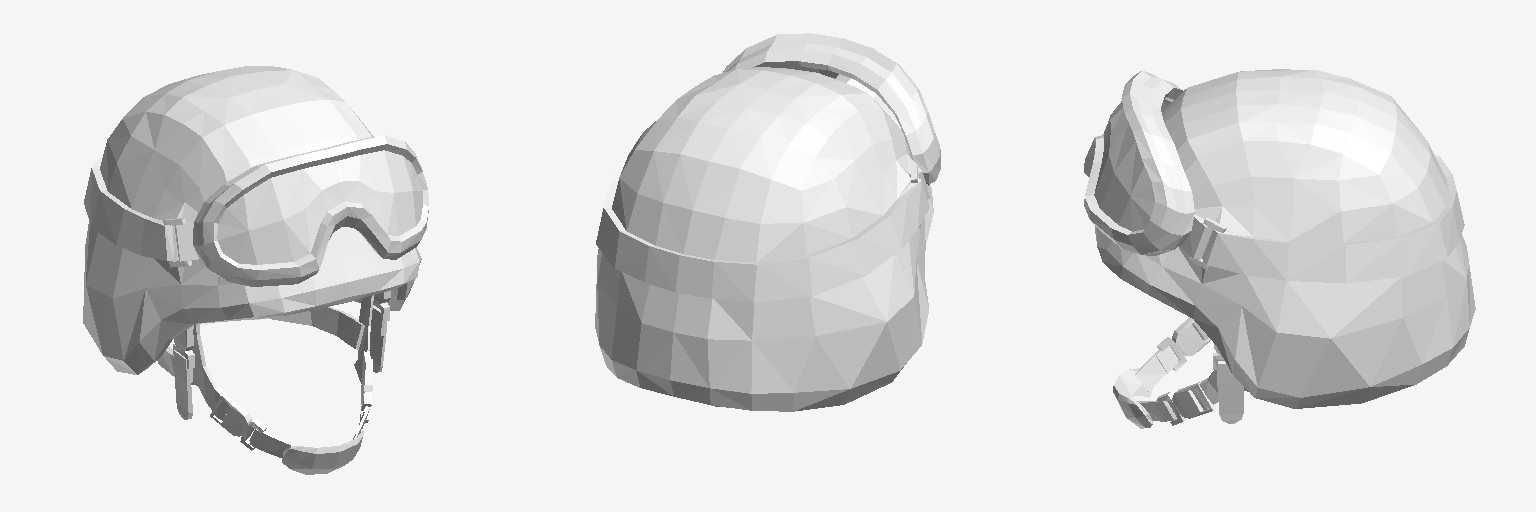
Rendered from PeaceKeeperHelmet.obj.
3 renders of one model, left to right at view 1: azimuth 30°, elevation 25°; view 2: azimuth 150°, elevation 25°; view 3: azimuth 270°, elevation 25°, orthographic.
Parts seen in each view (by area): view 1: Soldier_head_Soldier_head; view 2: Soldier_head_Soldier_head; view 3: Soldier_head_Soldier_head.
Part boxes in pixels (x1,y1,x2,y2): Soldier_head_Soldier_head: (83, 66, 428, 474); Soldier_head_Soldier_head: (595, 33, 940, 411); Soldier_head_Soldier_head: (1084, 69, 1475, 428).
Size of the model in its own units: 23.08 by 25.28 by 27.02.